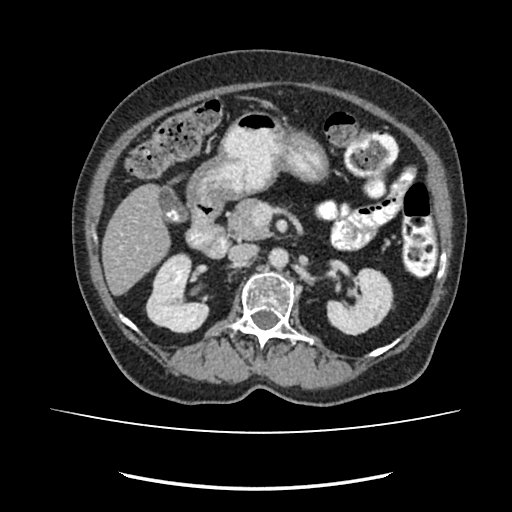aorta: (265, 244, 291, 274)
